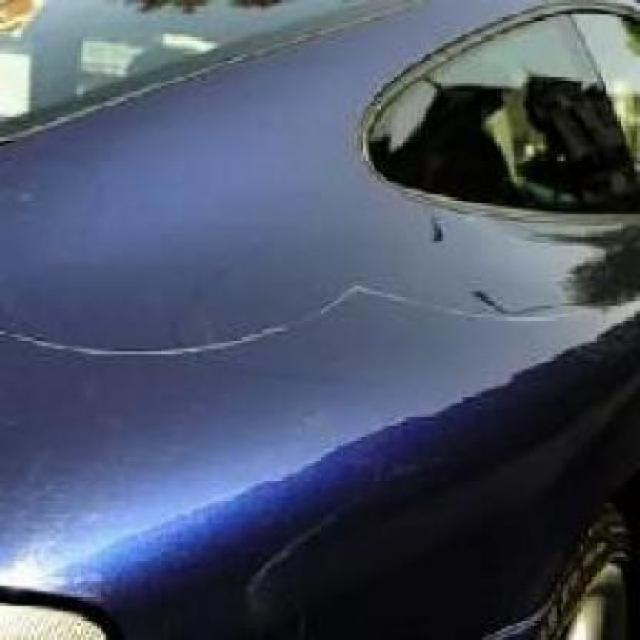dent-or-scratch: (0, 268, 637, 372)
